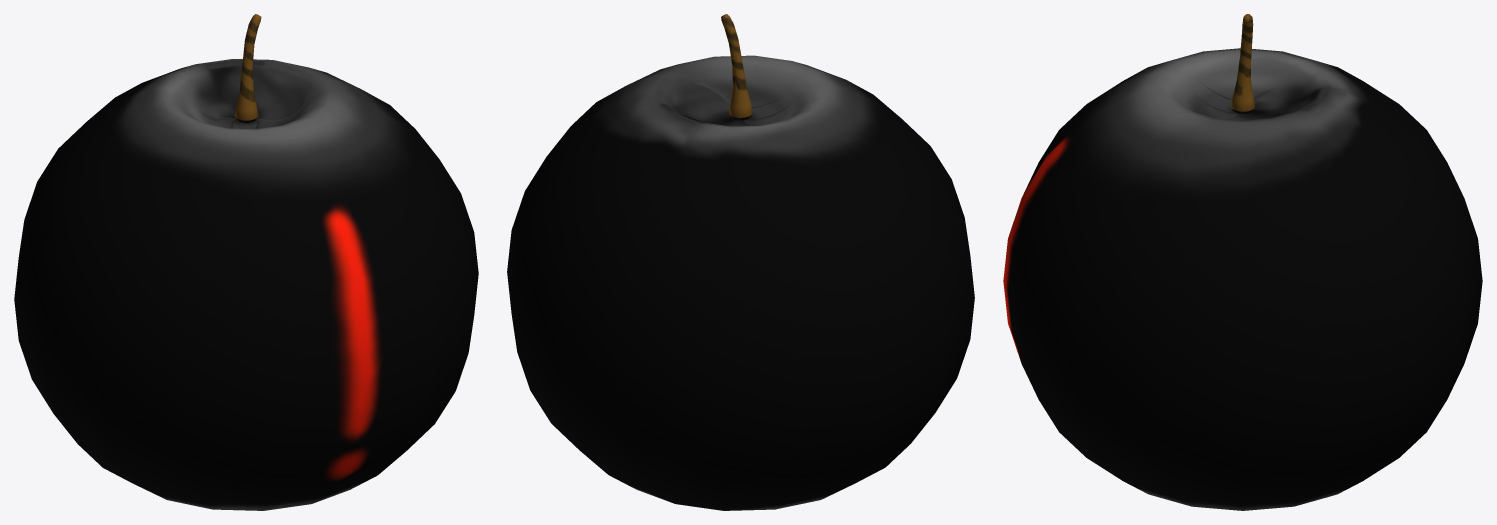
File: bomb.fbx
The picture shows the model from 3 angles, left to right: view 1: azimuth 30°, elevation 25°; view 2: azimuth 150°, elevation 25°; view 3: azimuth 270°, elevation 25°; orthographic projection. The views are drawn at different scales.
Visible parts, largest first — view 1: Sphere; view 2: Sphere; view 3: Sphere.
Boxes of the visible parts, x1,y1,x2,y2 form: Sphere: [14, 14, 478, 510]; Sphere: [507, 14, 974, 510]; Sphere: [1003, 14, 1482, 510].
Size of the model in its own units: 176 by 190 by 176.
Materials: 1 (1 with a texture image).
